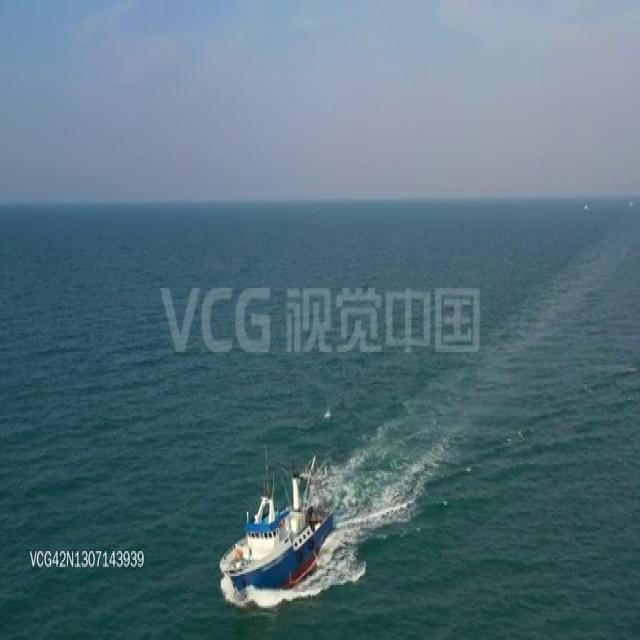houseboat: (223, 451, 336, 590)
